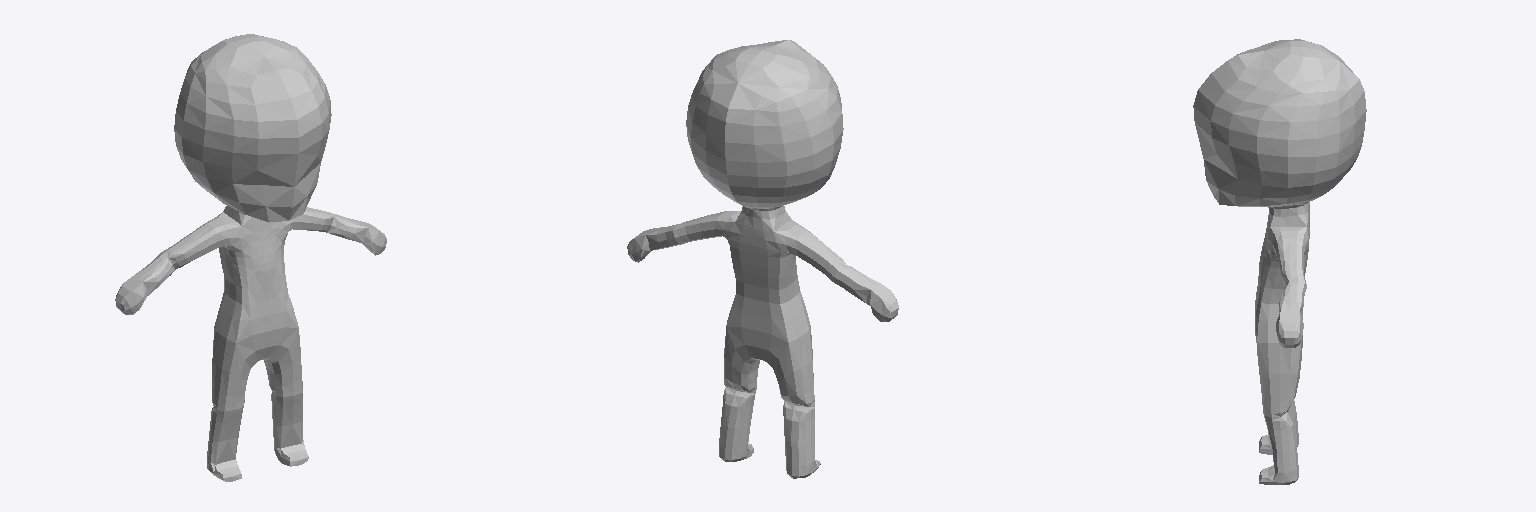
Rendered from juiz.obj.
3 views of the same model, side by side, from view 1: azimuth 30°, elevation 25°; view 2: azimuth 150°, elevation 25°; view 3: azimuth 270°, elevation 25° (orthographic).
Parts seen in each view (by area): view 1: Base_Cube; view 2: Base_Cube; view 3: Base_Cube.
Boxes of the visible parts, x1=… form: Base_Cube: x1=115, y1=34, x2=386, y2=481; Base_Cube: x1=627, y1=40, x2=898, y2=478; Base_Cube: x1=1193, y1=39, x2=1366, y2=484.
Bounding box in the file's own units: 4.05 × 6.08 × 2.28.